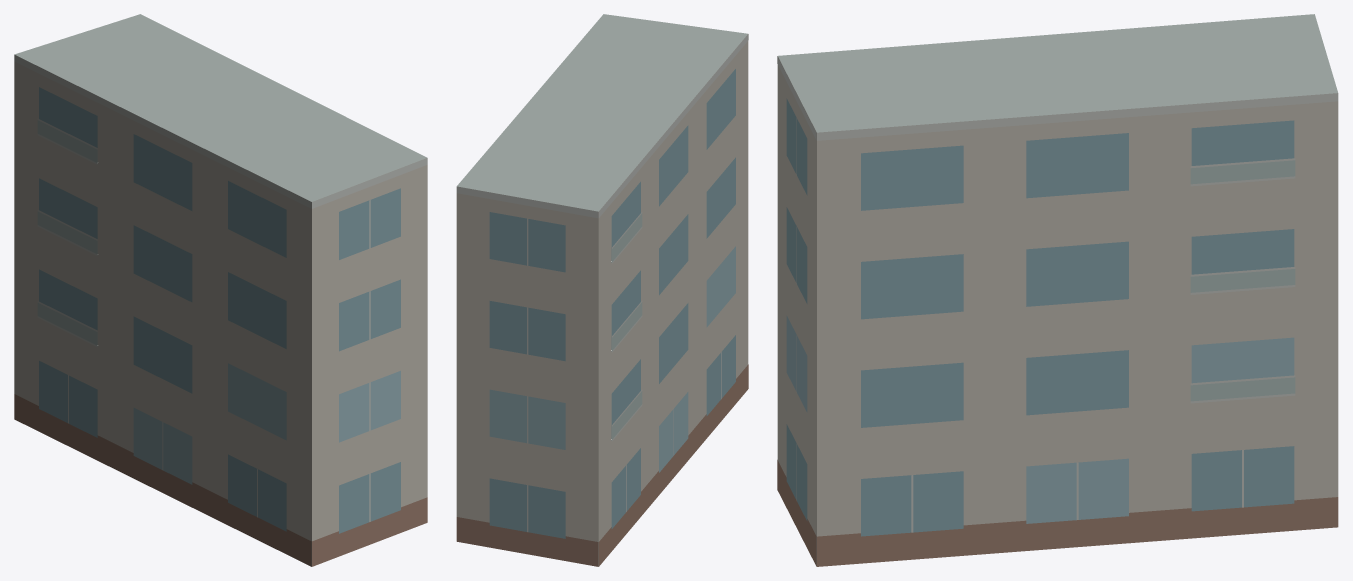
File: survey-upis-32473992.glb
3 views of the same model, side by side, from view 1: azimuth 30°, elevation 25°; view 2: azimuth 150°, elevation 25°; view 3: azimuth 270°, elevation 25° (orthographic). The views are drawn at different scales.
Parts seen in each view (by area): view 1: survey-upis-32473992.tmp; view 2: survey-upis-32473992.tmp; view 3: survey-upis-32473992.tmp.
Boxes of the visible parts, x1,y1,x2,y2 form: survey-upis-32473992.tmp: (14, 14, 427, 566); survey-upis-32473992.tmp: (456, 14, 748, 566); survey-upis-32473992.tmp: (777, 14, 1338, 566).
Bounding box in the file's own units: 7.57 × 12.9 × 15.11.
